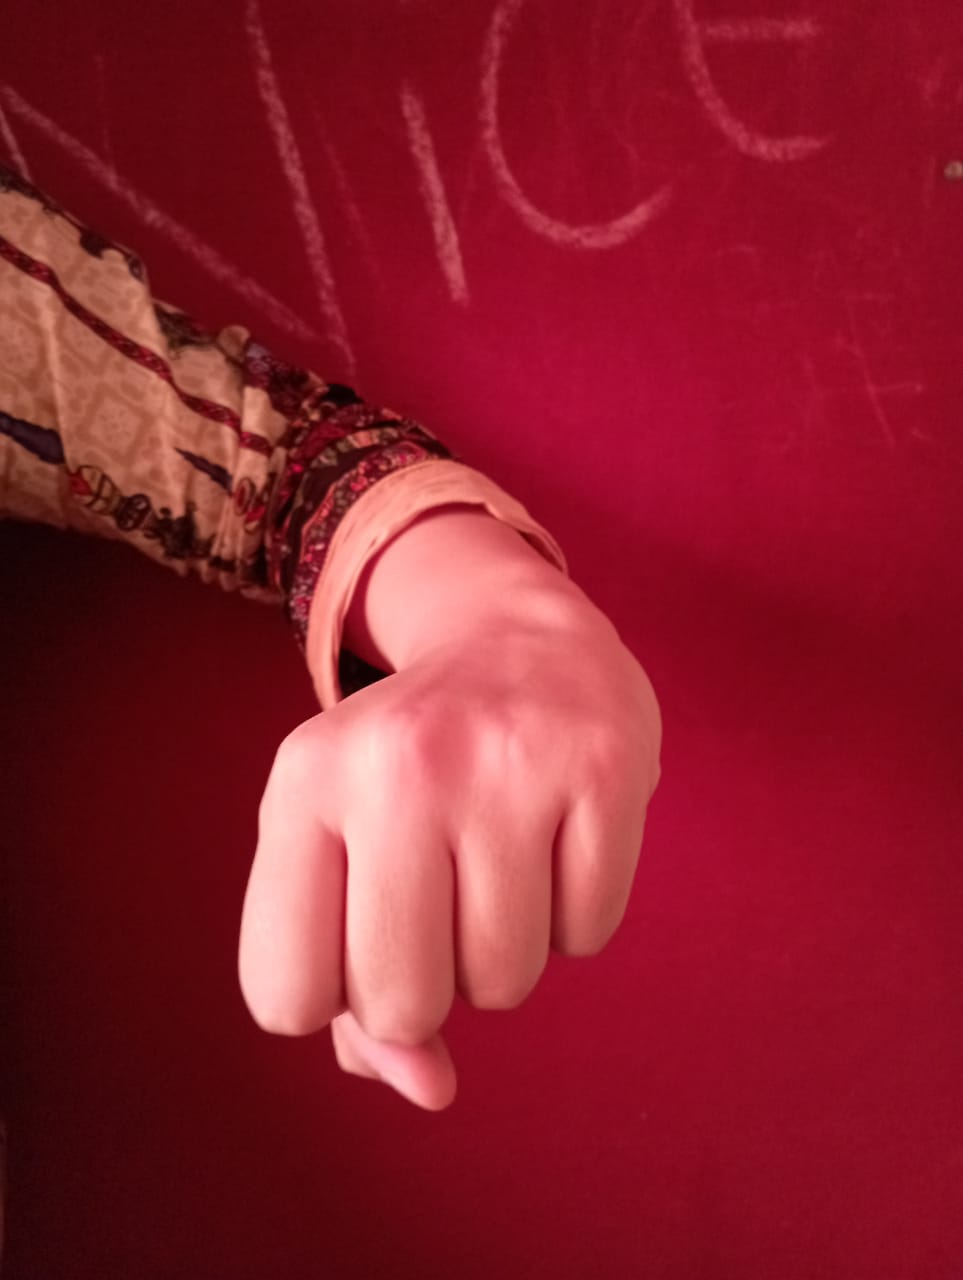BroCode: (215, 657, 693, 1117)
